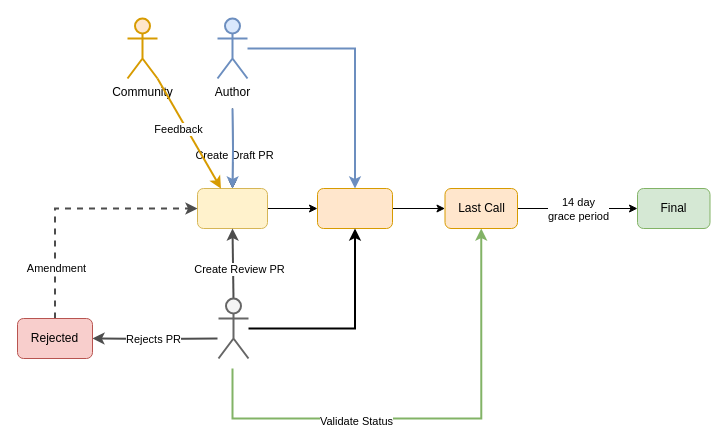
Image size: 728x444. Some labels were removed from this diagram. The shapes that lost their labels are listed below. From the top down, each one's box as (x1, y1, x2, y2) in pixels, then its label:
(196, 188, 268, 228): Draft
(316, 188, 392, 228): Review
(217, 297, 249, 359): Validator (SME) - Editor
